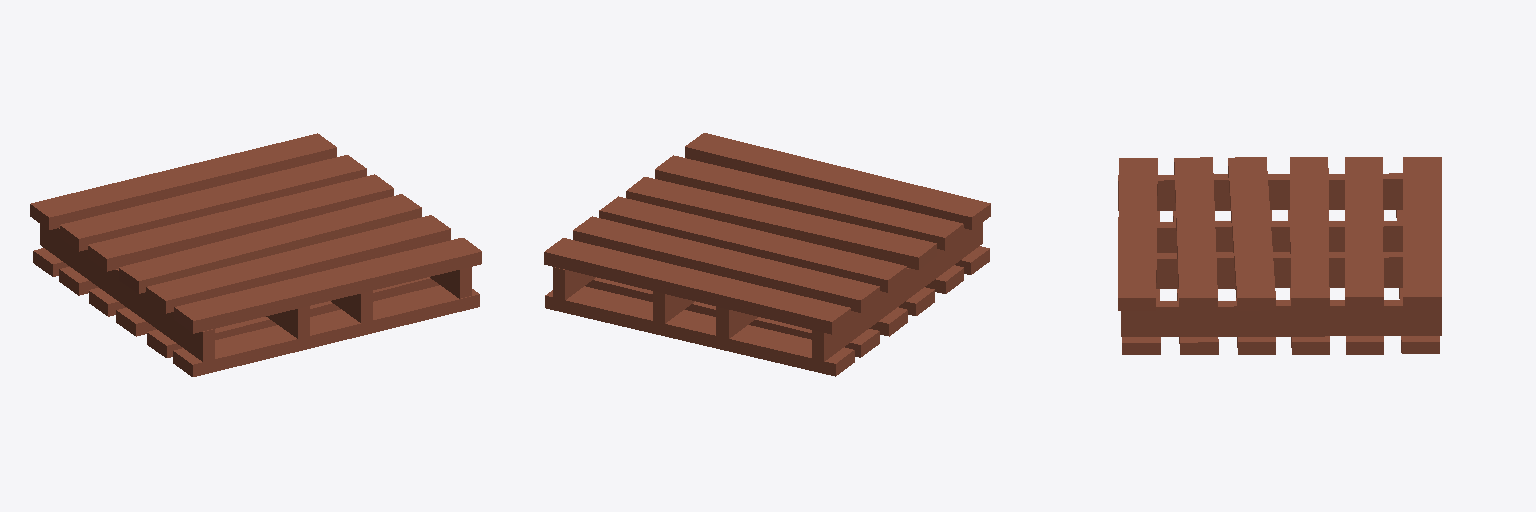
File: loading_pallet.obj
The picture shows the model from 3 angles: view 1: azimuth 30°, elevation 25°; view 2: azimuth 150°, elevation 25°; view 3: azimuth 270°, elevation 25°; orthographic projection.
Parts seen in each view (by area): view 1: Cube.002; view 2: Cube.002; view 3: Cube.002.
Part boxes in pixels (left/top/right/bottom): Cube.002: left=30, top=133, right=481, bottom=376; Cube.002: left=544, top=133, right=990, bottom=376; Cube.002: left=1118, top=157, right=1441, bottom=354.
Size of the model in its own units: 1.6 by 0.3 by 1.55.